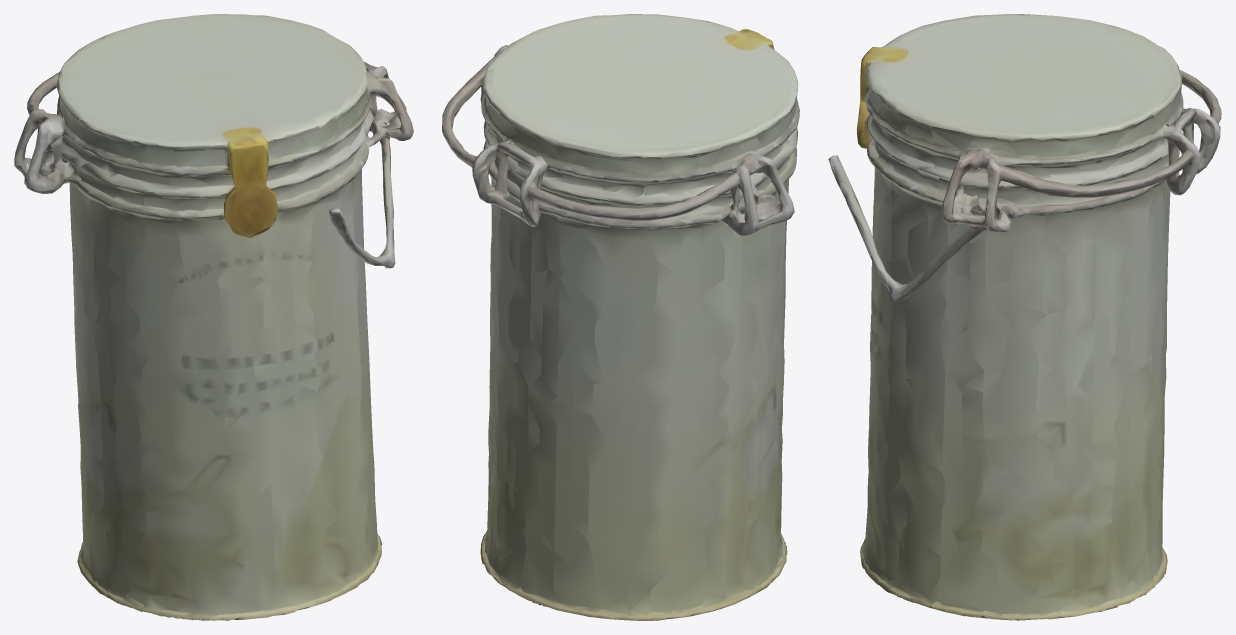
File: 0000_mask_001_green_biscuit_tin.glb
3 renders of one model, left to right at view 1: azimuth 30°, elevation 25°; view 2: azimuth 150°, elevation 25°; view 3: azimuth 270°, elevation 25°, orthographic.
Parts seen in each view (by area): view 1: mask_001_object; view 2: mask_001_object; view 3: mask_001_object.
Part boxes in pixels (x1,y1,x2,y2): mask_001_object: (14,14,413,620); mask_001_object: (442,14,799,620); mask_001_object: (828,14,1221,620).
Size of the model in its own units: 0.1191 by 0.1603 by 0.1166.
